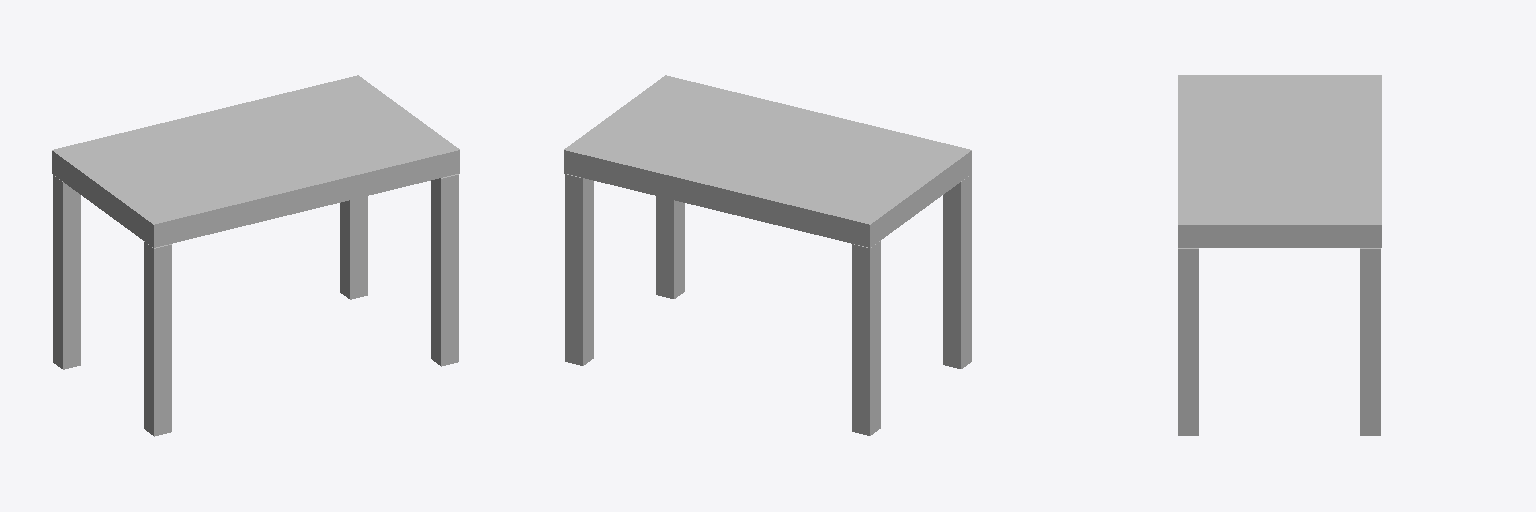
Rendered from table.obj.
3 renders of one model, left to right at view 1: azimuth 30°, elevation 25°; view 2: azimuth 150°, elevation 25°; view 3: azimuth 270°, elevation 25°, orthographic.
Visible parts, largest first — view 1: Box008; view 2: Box008; view 3: Box008.
Part boxes in pixels (x1,y1,x2,y2): Box008: (52, 75, 459, 436); Box008: (564, 75, 971, 435); Box008: (1178, 75, 1381, 435).
Bounding box in the file's own units: 8.55 × 5.65 × 4.93.